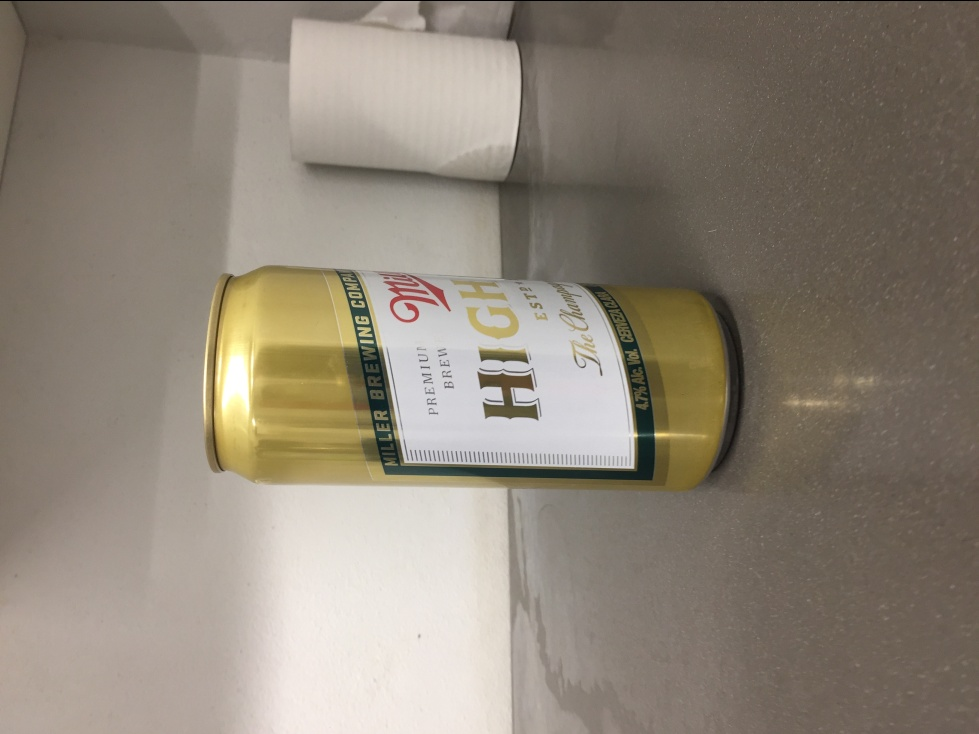miller: (199, 261, 743, 490)
